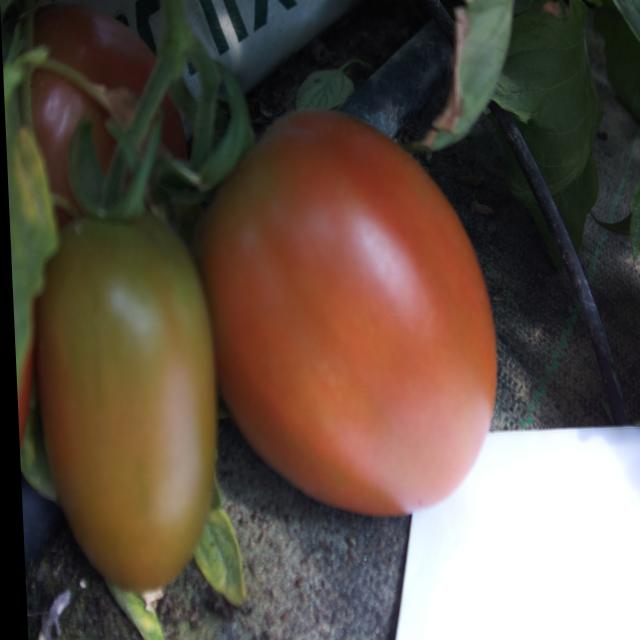kirmizi: (170, 92, 516, 536)
